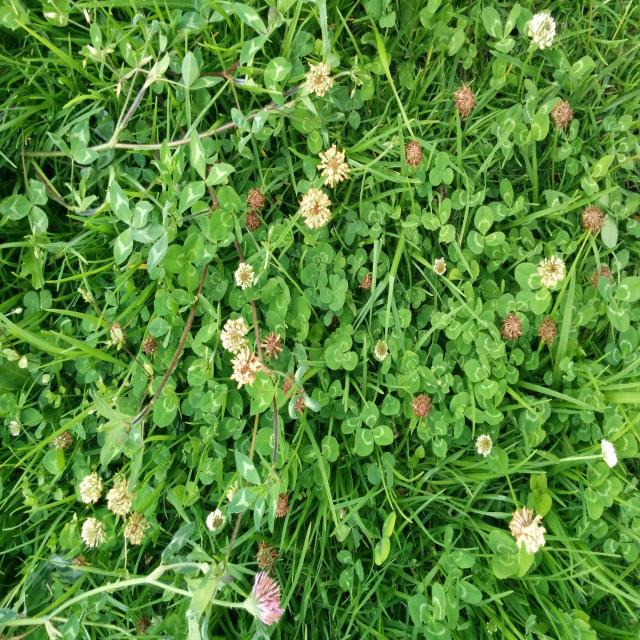Four Leaf Clover: (320, 274, 348, 311)
